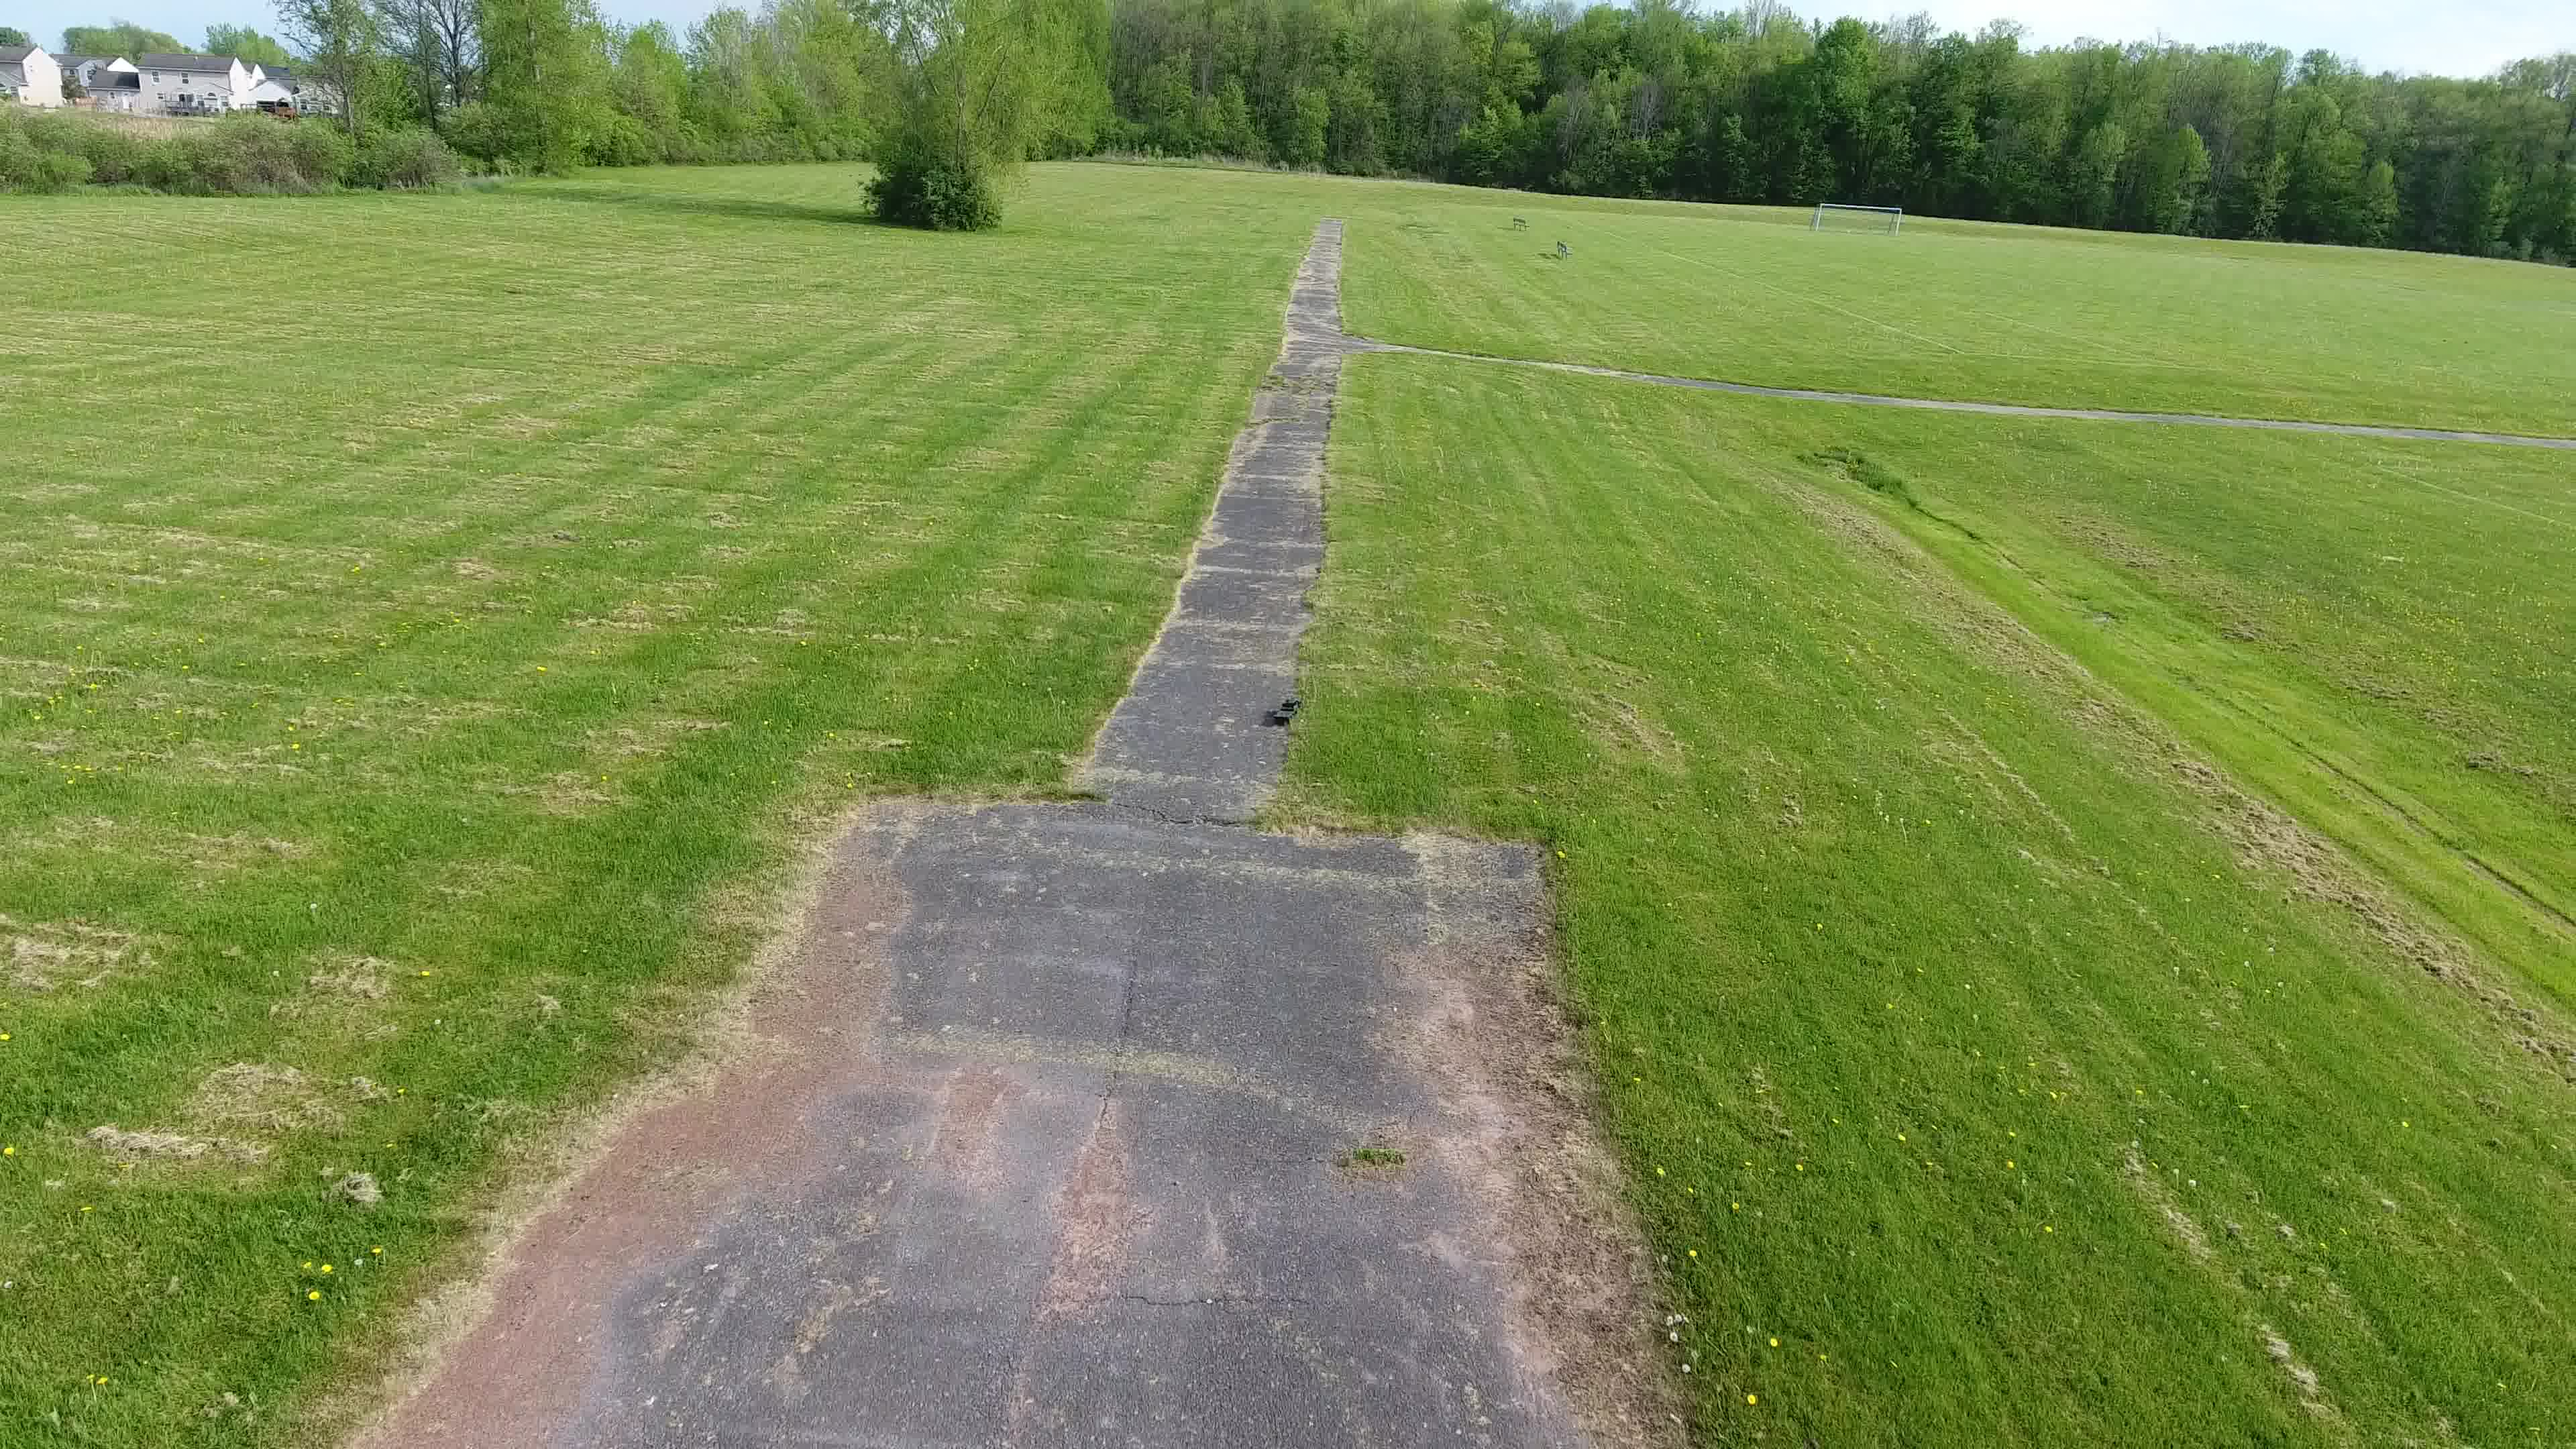transporter9: (1269, 692, 1302, 725)
